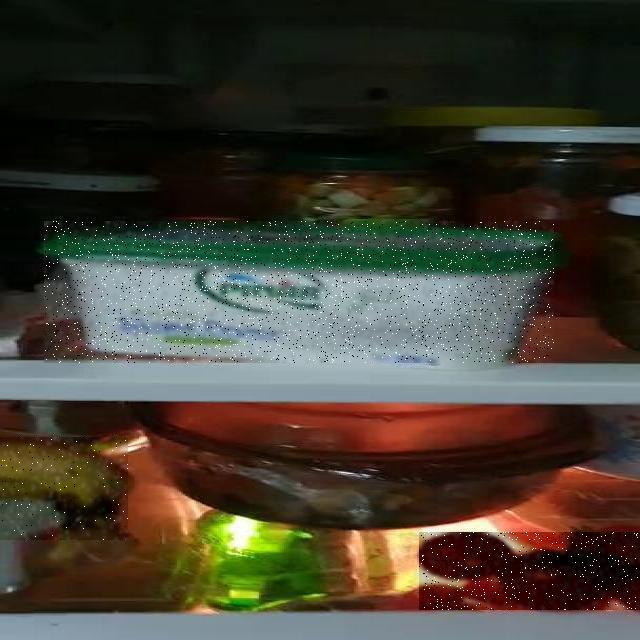Banana: (0, 437, 128, 540)
Cheese: (44, 221, 554, 363)
Tomato Paste: (419, 532, 640, 610)
